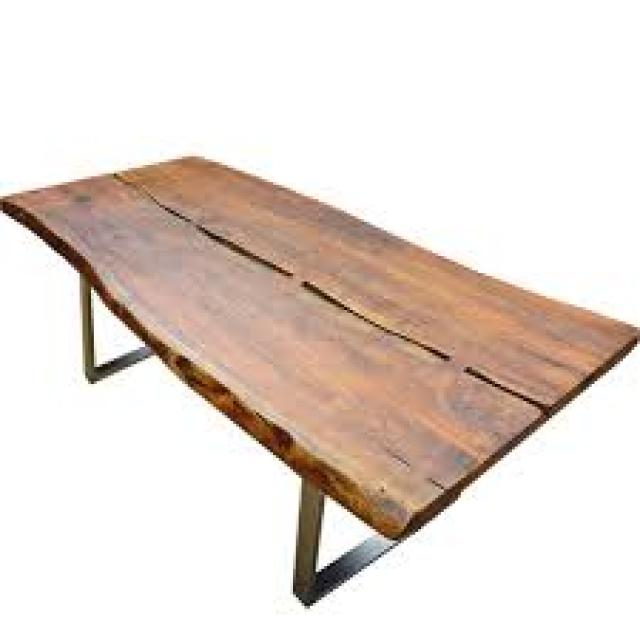Woods: (0, 156, 640, 543)
